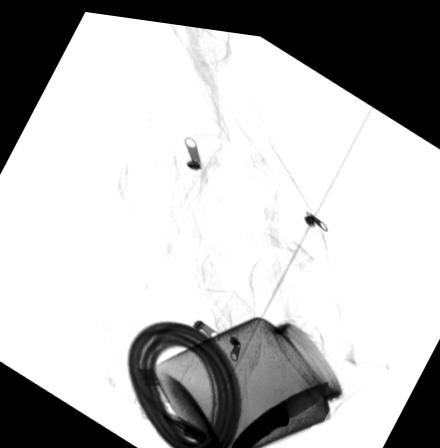Knife: (228, 370, 331, 448)
